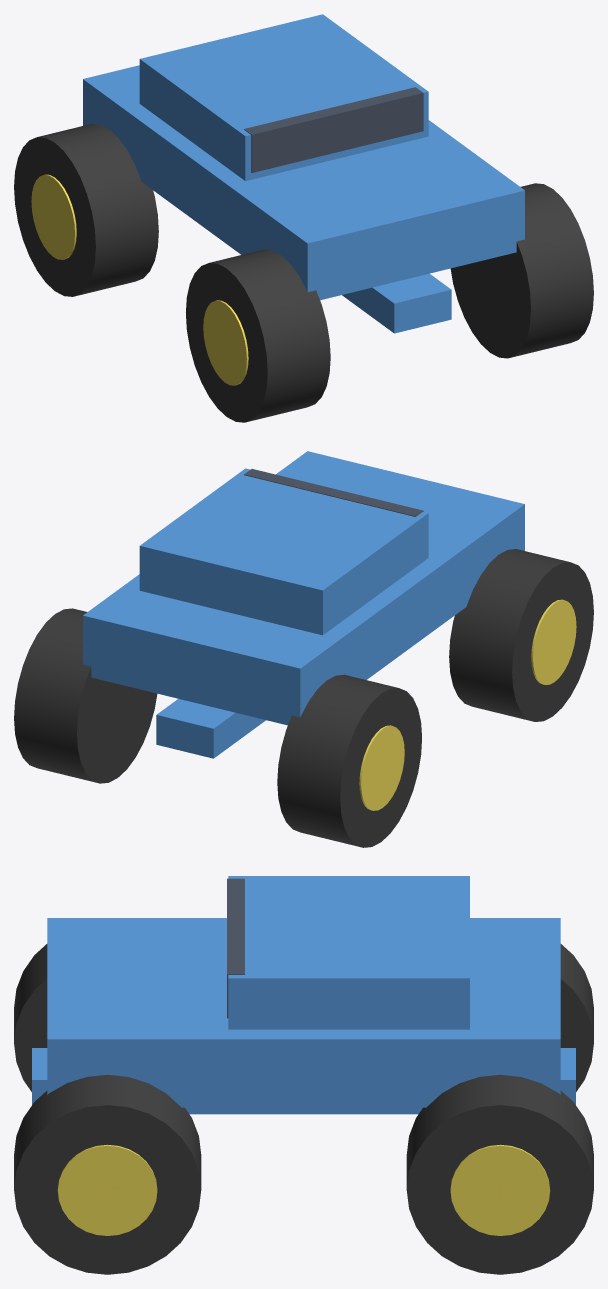
The model's file is rc-truck.glb.
The picture shows the model from 3 angles, top to bottom: view 1: azimuth 30°, elevation 25°; view 2: azimuth 150°, elevation 25°; view 3: azimuth 270°, elevation 25°; orthographic projection. The views are drawn at different scales.
Parts seen in each view (by area): view 1: body, tire, glass, rim; view 2: body, tire, rim, glass; view 3: body, tire, rim, glass.
Part boxes in pixels (x1,y1,x2,y2): body: [83, 14, 524, 333]; tire: [14, 124, 593, 422]; glass: [244, 87, 423, 172]; rim: [31, 174, 248, 385]; body: [83, 451, 524, 758]; tire: [14, 549, 593, 847]; rim: [359, 599, 576, 810]; glass: [244, 469, 423, 516]; body: [32, 876, 575, 1114]; tire: [14, 944, 593, 1274]; rim: [57, 1144, 550, 1235]; glass: [227, 878, 244, 1018].
Size of the model in its own units: 0.3086 by 0.2014 by 0.4114.
